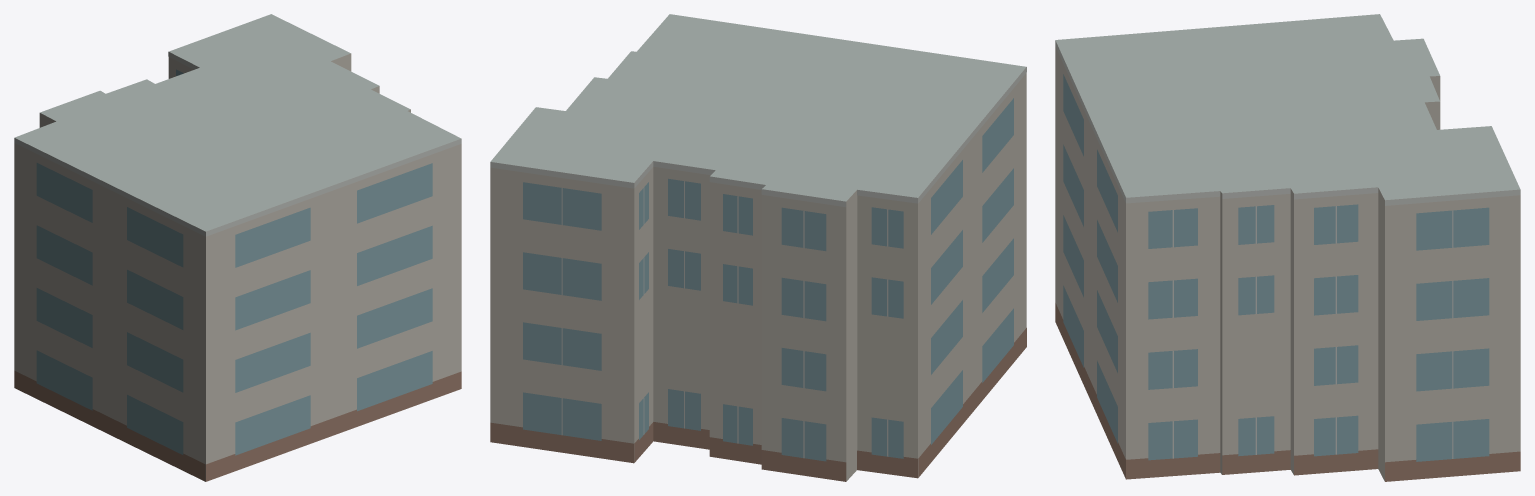
The model's file is survey-upis-32604764.glb.
3 views of the same model, side by side, from view 1: azimuth 30°, elevation 25°; view 2: azimuth 150°, elevation 25°; view 3: azimuth 270°, elevation 25° (orthographic). The views are drawn at different scales.
Parts seen in each view (by area): view 1: survey-upis-32604764.tmp; view 2: survey-upis-32604764.tmp; view 3: survey-upis-32604764.tmp.
Part boxes in pixels (x1,y1,x2,y2): survey-upis-32604764.tmp: (14,14,461,481); survey-upis-32604764.tmp: (490,14,1026,481); survey-upis-32604764.tmp: (1055,14,1520,481).
Bounding box in the file's own units: 17.03 × 12 × 17.98.
